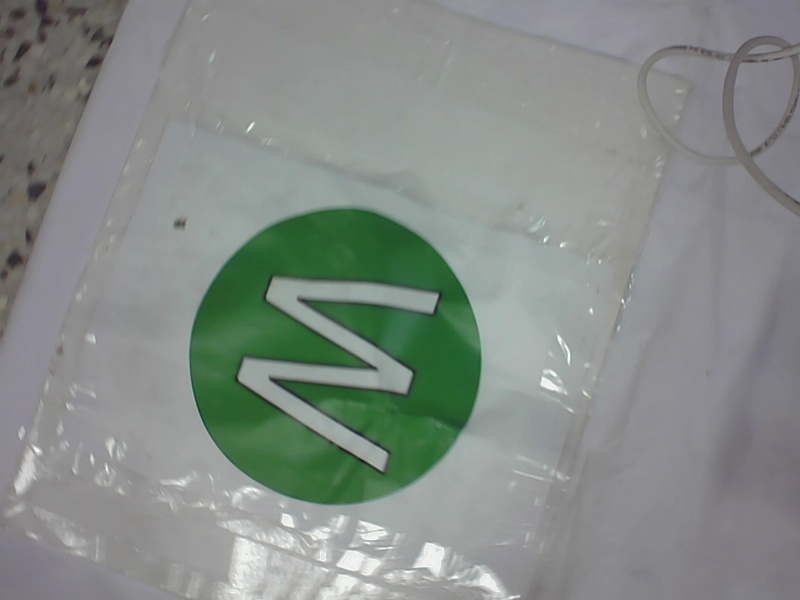areaB: (173, 199, 496, 517)
